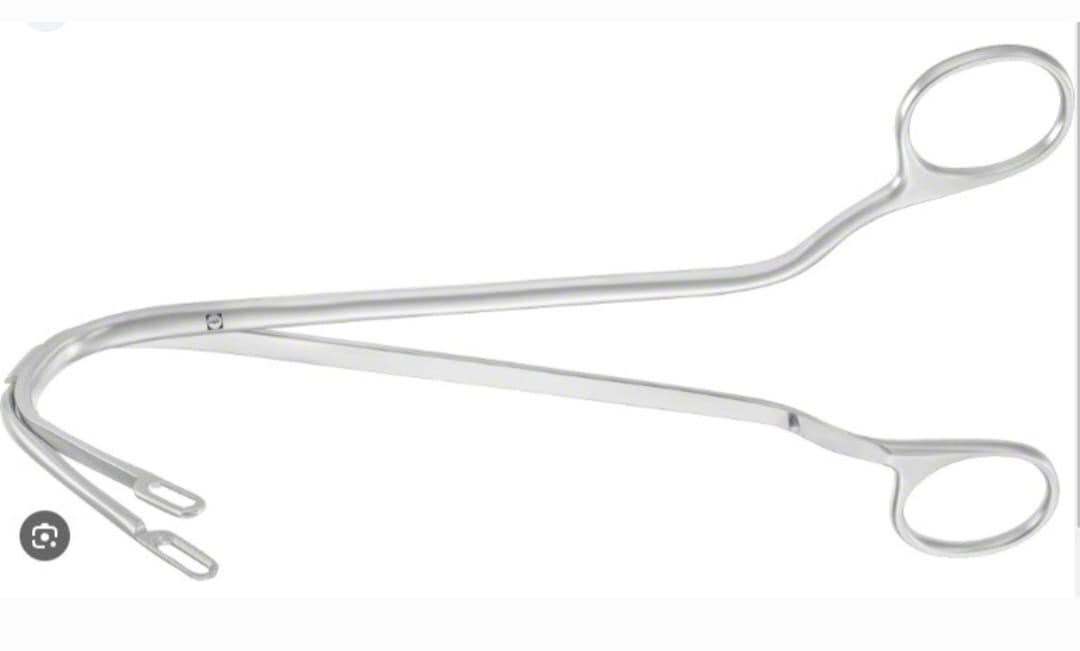Randall: (2, 37, 1075, 586)
